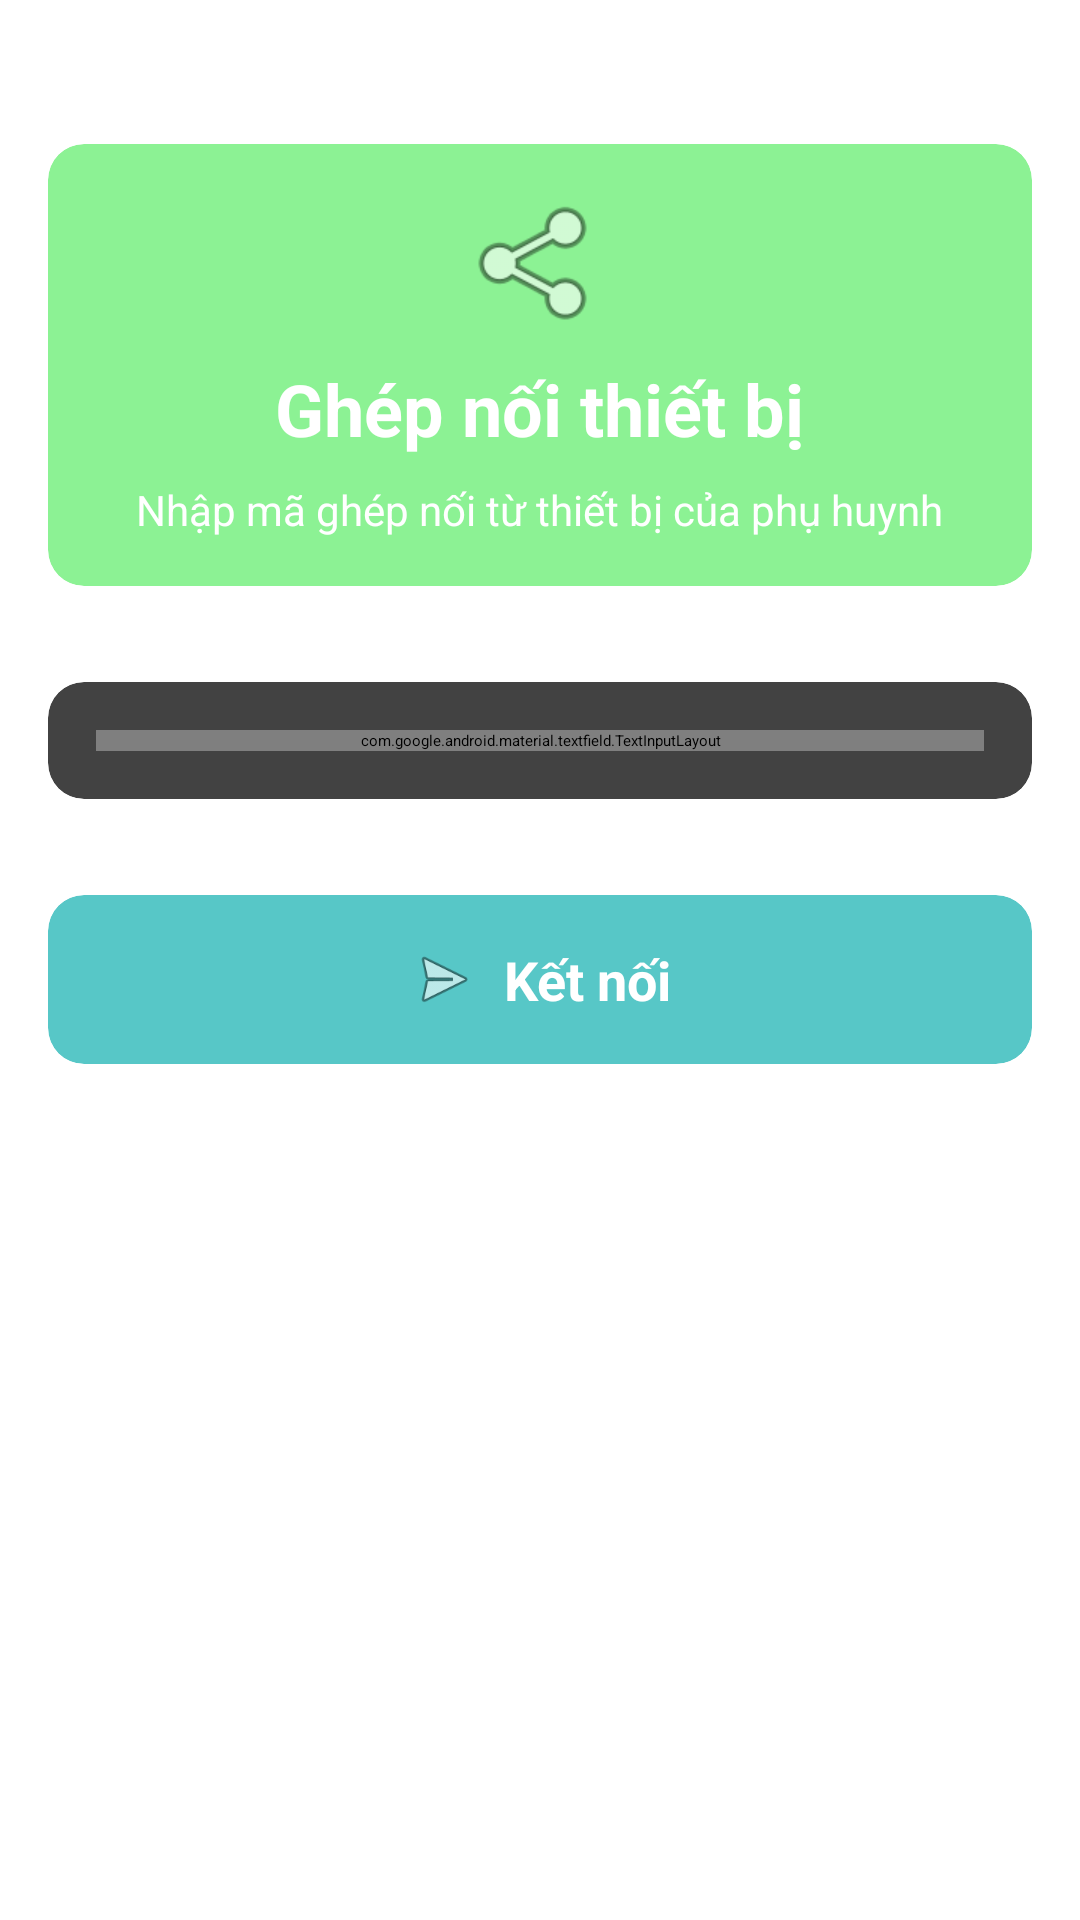

Where to tap for icons on this 1080×1920 app screen, as [x,y]:
send: [445,979]
share: [532,263]
